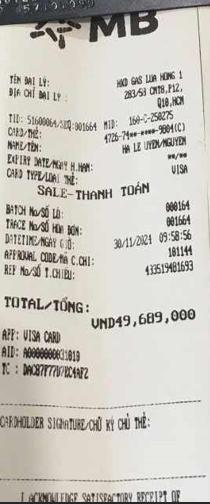receipt: (3, 6, 202, 393)
